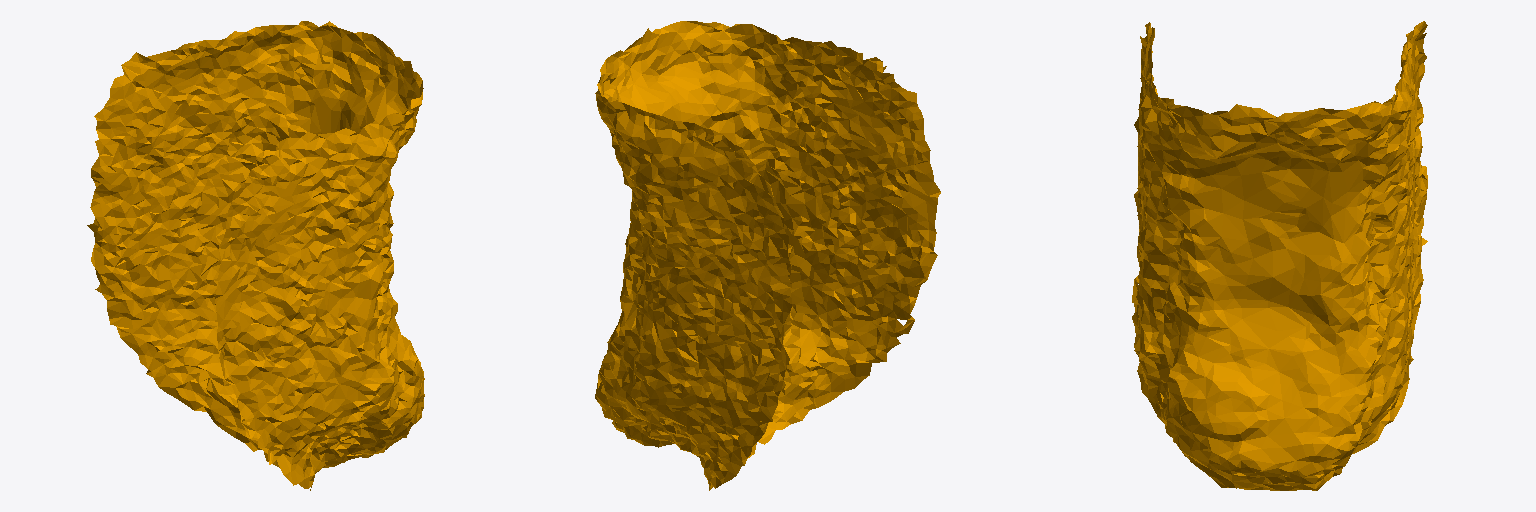
URDF robot description (rigid_drill):
<?xml version="1.0"?>
<robot name="rigid_drill">
  <link name="base">
    <visual>
      <geometry>
        <mesh filename="assets/base.obj" />
      </geometry>
    </visual>
    <collision>
      <geometry>
        <mesh filename="assets/base.obj" />
      </geometry>
    </collision>
    <visual>
      <geometry>
        <mesh filename="assets/trigger.obj" />
      </geometry>
    </visual>
    <collision>
      <geometry>
        <mesh filename="assets/trigger.obj" />
      </geometry>
    </collision>
    <visual>
      <geometry>
        <mesh filename="assets/chuck.obj" />
      </geometry>
    </visual>
    <collision>
      <geometry>
        <mesh filename="assets/chuck.obj" />
      </geometry>
    </collision>
    <visual>
      <geometry>
        <mesh filename="assets/bit.obj" />
      </geometry>
    </visual>
  </link>
</robot>

--- Facts derived from the render (not from the file) ---
The picture shows the robot from 3 angles, left to right: view 1: azimuth 30°, elevation 25°; view 2: azimuth 150°, elevation 25°; view 3: azimuth 270°, elevation 25°; orthographic projection.
Robot: rigid_drill — 1 links, 0 joints (none); root link base; default pose: every joint at zero.
Visible links, largest first — view 1: base; view 2: base; view 3: base.
Boxes of the visible links, x1=… form: base: x1=87, y1=21, x2=424, y2=490; base: x1=595, y1=21, x2=940, y2=490; base: x1=1132, y1=21, x2=1427, y2=490.
Bounding box of the posed robot: 0.0173 × 0.0164 × 0.0255 m (x, y, z).
1 mesh visuals loaded from 4 distinct referenced files (1 OBJ); not drawn: 3 (reference not matched to a file when rendering).